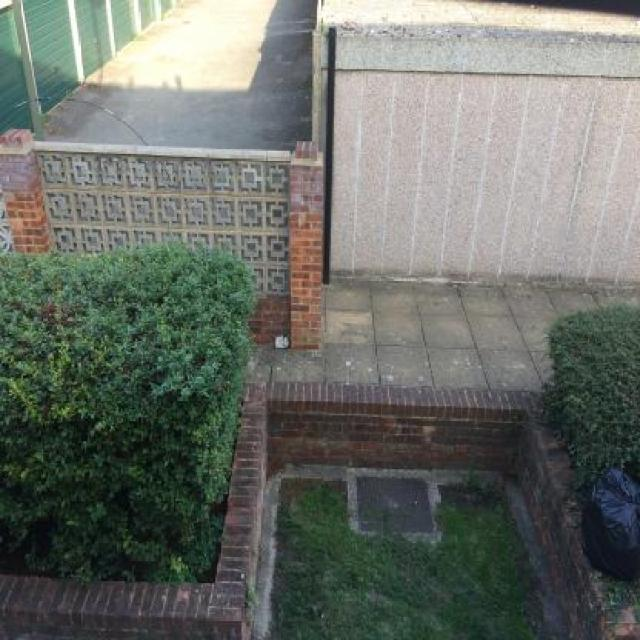Garbage: (580, 464, 640, 583), (275, 336, 289, 348)
